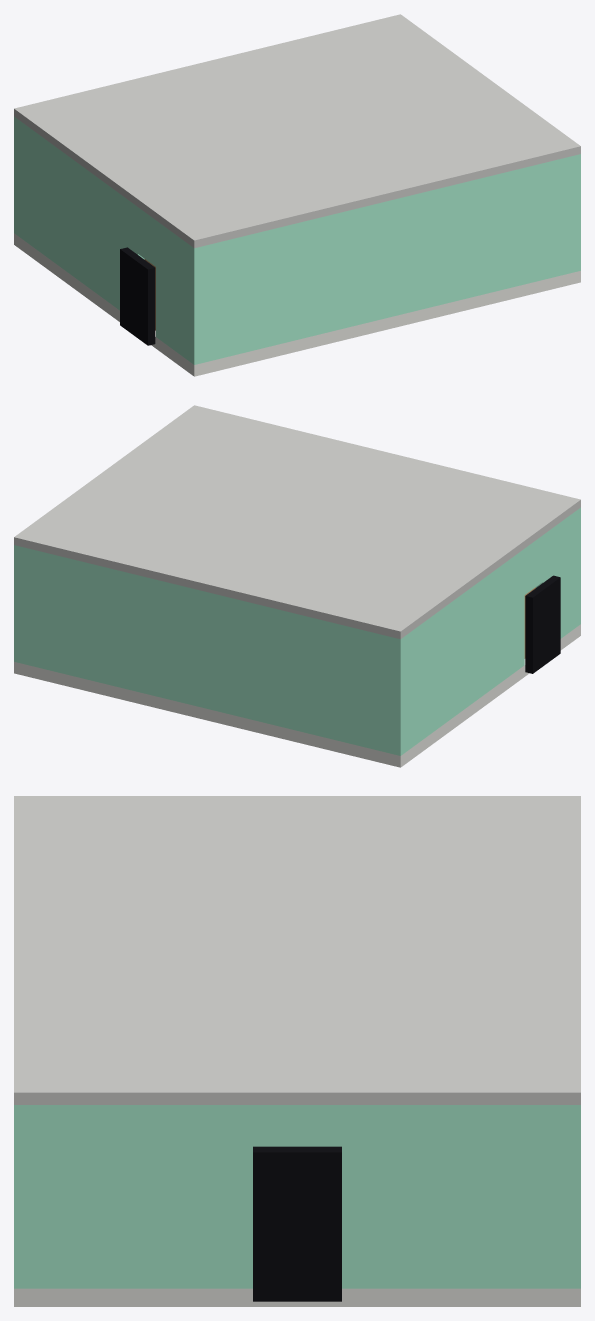
Rendered from rdwe_tiny_kitchen.glb.
3 renders of one model, top to bottom at view 1: azimuth 30°, elevation 25°; view 2: azimuth 150°, elevation 25°; view 3: azimuth 270°, elevation 25°, orthographic. The views are drawn at different scales.
Parts seen in each view (by area): view 1: Room_Ceiling, Room_Wall_S_1, Room_Wall_W_1, Room_Floor, Room_Wall_W_3, Beyond_back, Room_Wall_W_2, Room_Wall_N_1; view 2: Room_Ceiling, Room_Wall_N_1, Room_Wall_W_1, Room_Floor, Beyond_back, Room_Wall_W_3, Room_Wall_W_2, Room_Wall_S_1; view 3: Room_Ceiling, Room_Wall_E_1, Room_Wall_E_3, Beyond_table, Room_Floor, Room_Wall_N_1, Room_Wall_S_1, Room_Wall_E_2.
Boxes of the visible parts, x1,y1,x2,y2 form: Room_Ceiling: (14, 14, 580, 248); Room_Wall_S_1: (190, 154, 580, 364); Room_Wall_W_1: (18, 120, 144, 310); Room_Floor: (14, 233, 580, 376); Room_Wall_W_3: (156, 220, 189, 361); Beyond_back: (120, 247, 155, 345); Room_Wall_W_2: (138, 207, 155, 266); Room_Wall_N_1: (14, 116, 18, 235); Room_Ceiling: (14, 405, 580, 639); Room_Wall_N_1: (14, 545, 404, 755); Room_Wall_W_1: (405, 549, 524, 752); Room_Floor: (14, 624, 580, 767); Beyond_back: (525, 575, 560, 673); Room_Wall_W_3: (536, 511, 576, 638); Room_Wall_W_2: (524, 535, 542, 594); Room_Wall_S_1: (576, 507, 580, 626); Room_Ceiling: (14, 796, 580, 1104); Room_Wall_E_1: (326, 1105, 567, 1288); Room_Wall_E_3: (27, 1105, 268, 1288); Beyond_table: (253, 1146, 341, 1301); Room_Floor: (14, 1288, 580, 1306); Room_Wall_N_1: (567, 1105, 580, 1288); Room_Wall_S_1: (14, 1105, 27, 1288); Room_Wall_E_2: (268, 1105, 326, 1146).
Size of the model in its own units: 11.1 by 3.5 by 8.4.
